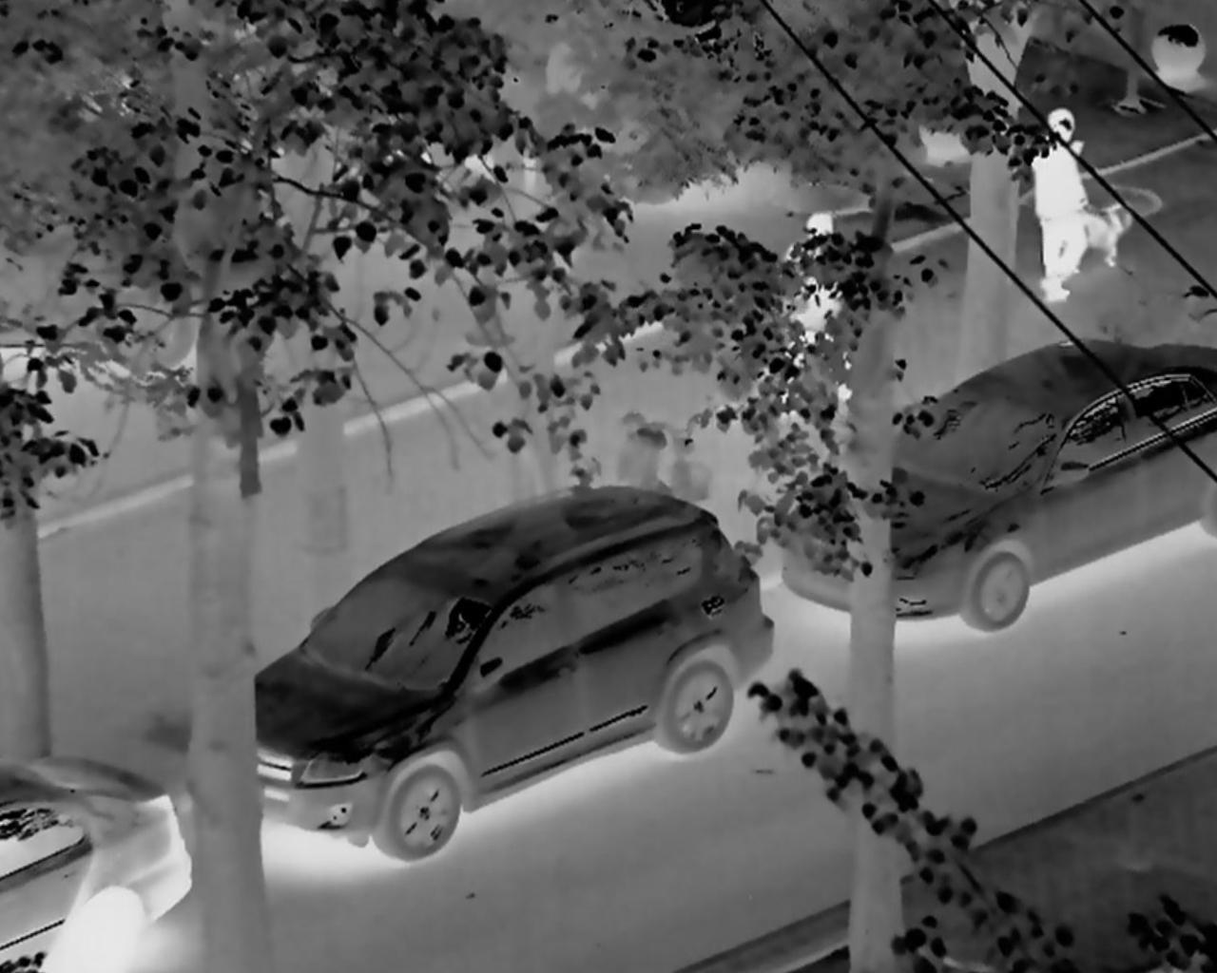person: (755, 209, 844, 406), (1024, 111, 1100, 305)
